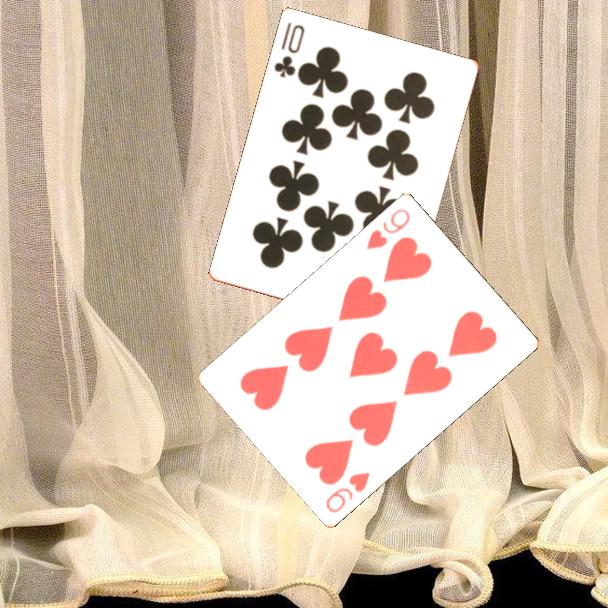c10: (271, 19, 308, 81)
h09: (322, 468, 373, 515), (363, 205, 413, 252)
